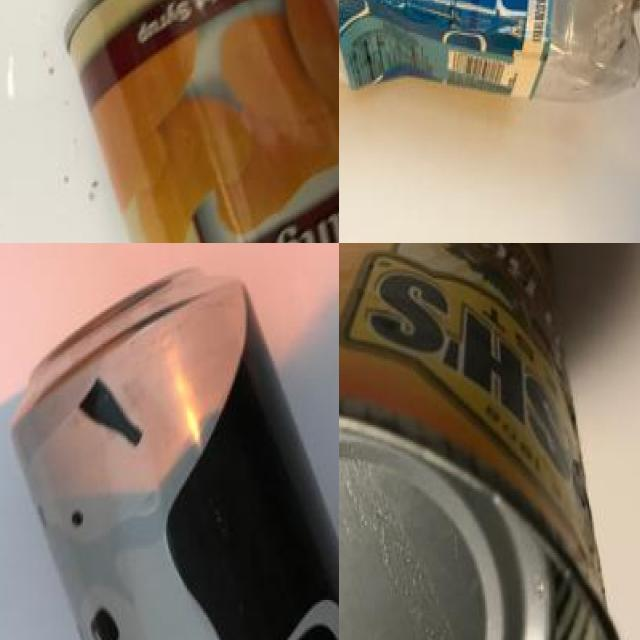plastic: (13, 273, 339, 640), (339, 243, 637, 640), (61, 0, 339, 243), (339, 0, 640, 103)
